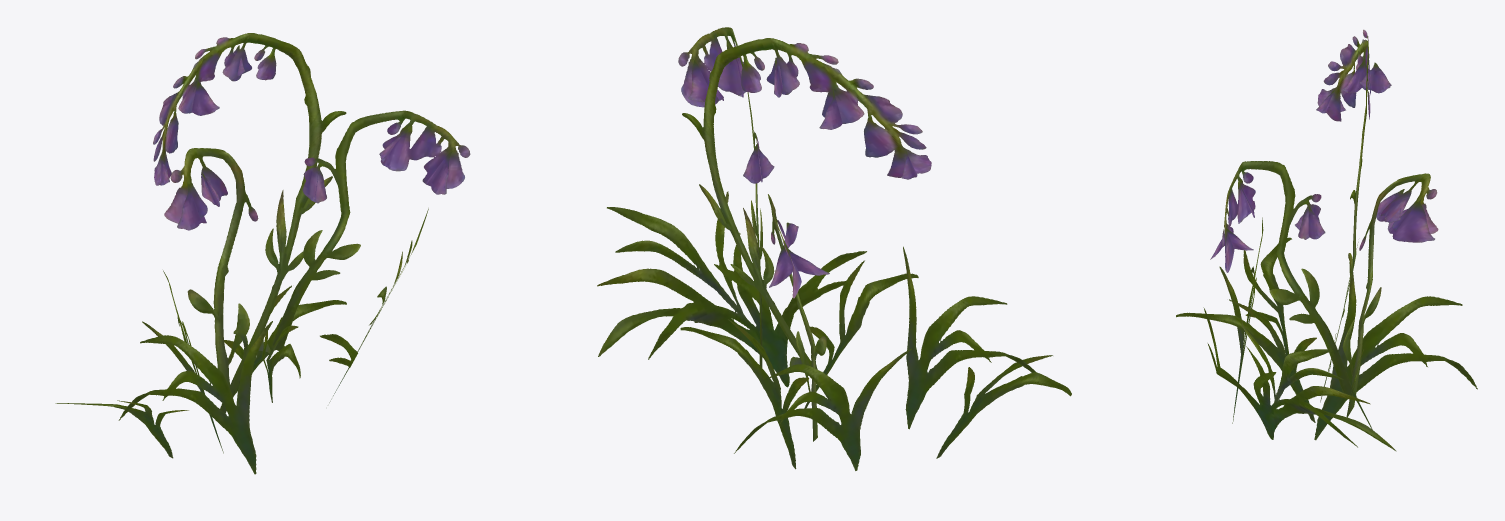
3 views of the same model, side by side, from view 1: azimuth 30°, elevation 25°; view 2: azimuth 150°, elevation 25°; view 3: azimuth 270°, elevation 25° (orthographic). The views are drawn at different scales.
Bounding box in the file's own units: 3.18 × 2.9 × 2.04.
1 material, 1 textured.
